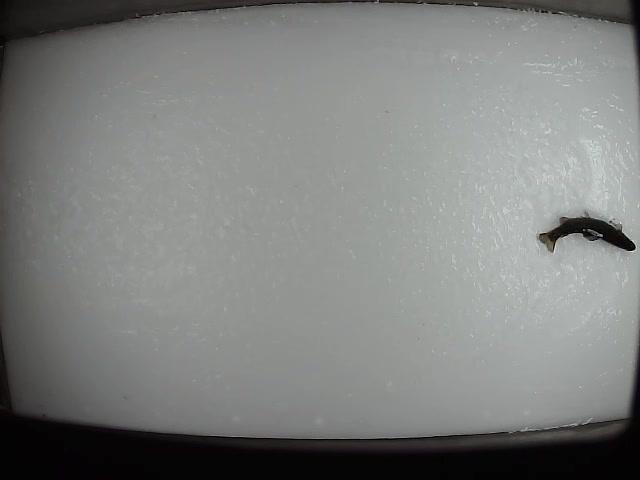Fish: (539, 217, 636, 253)
